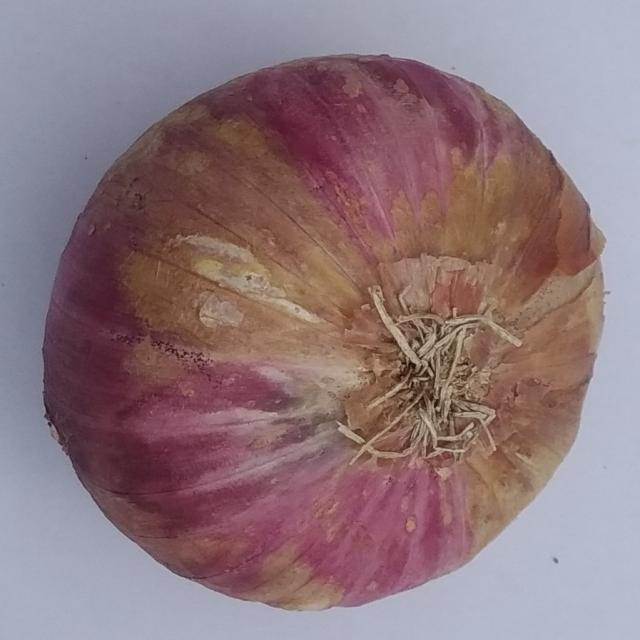onion: (42, 49, 612, 616)
